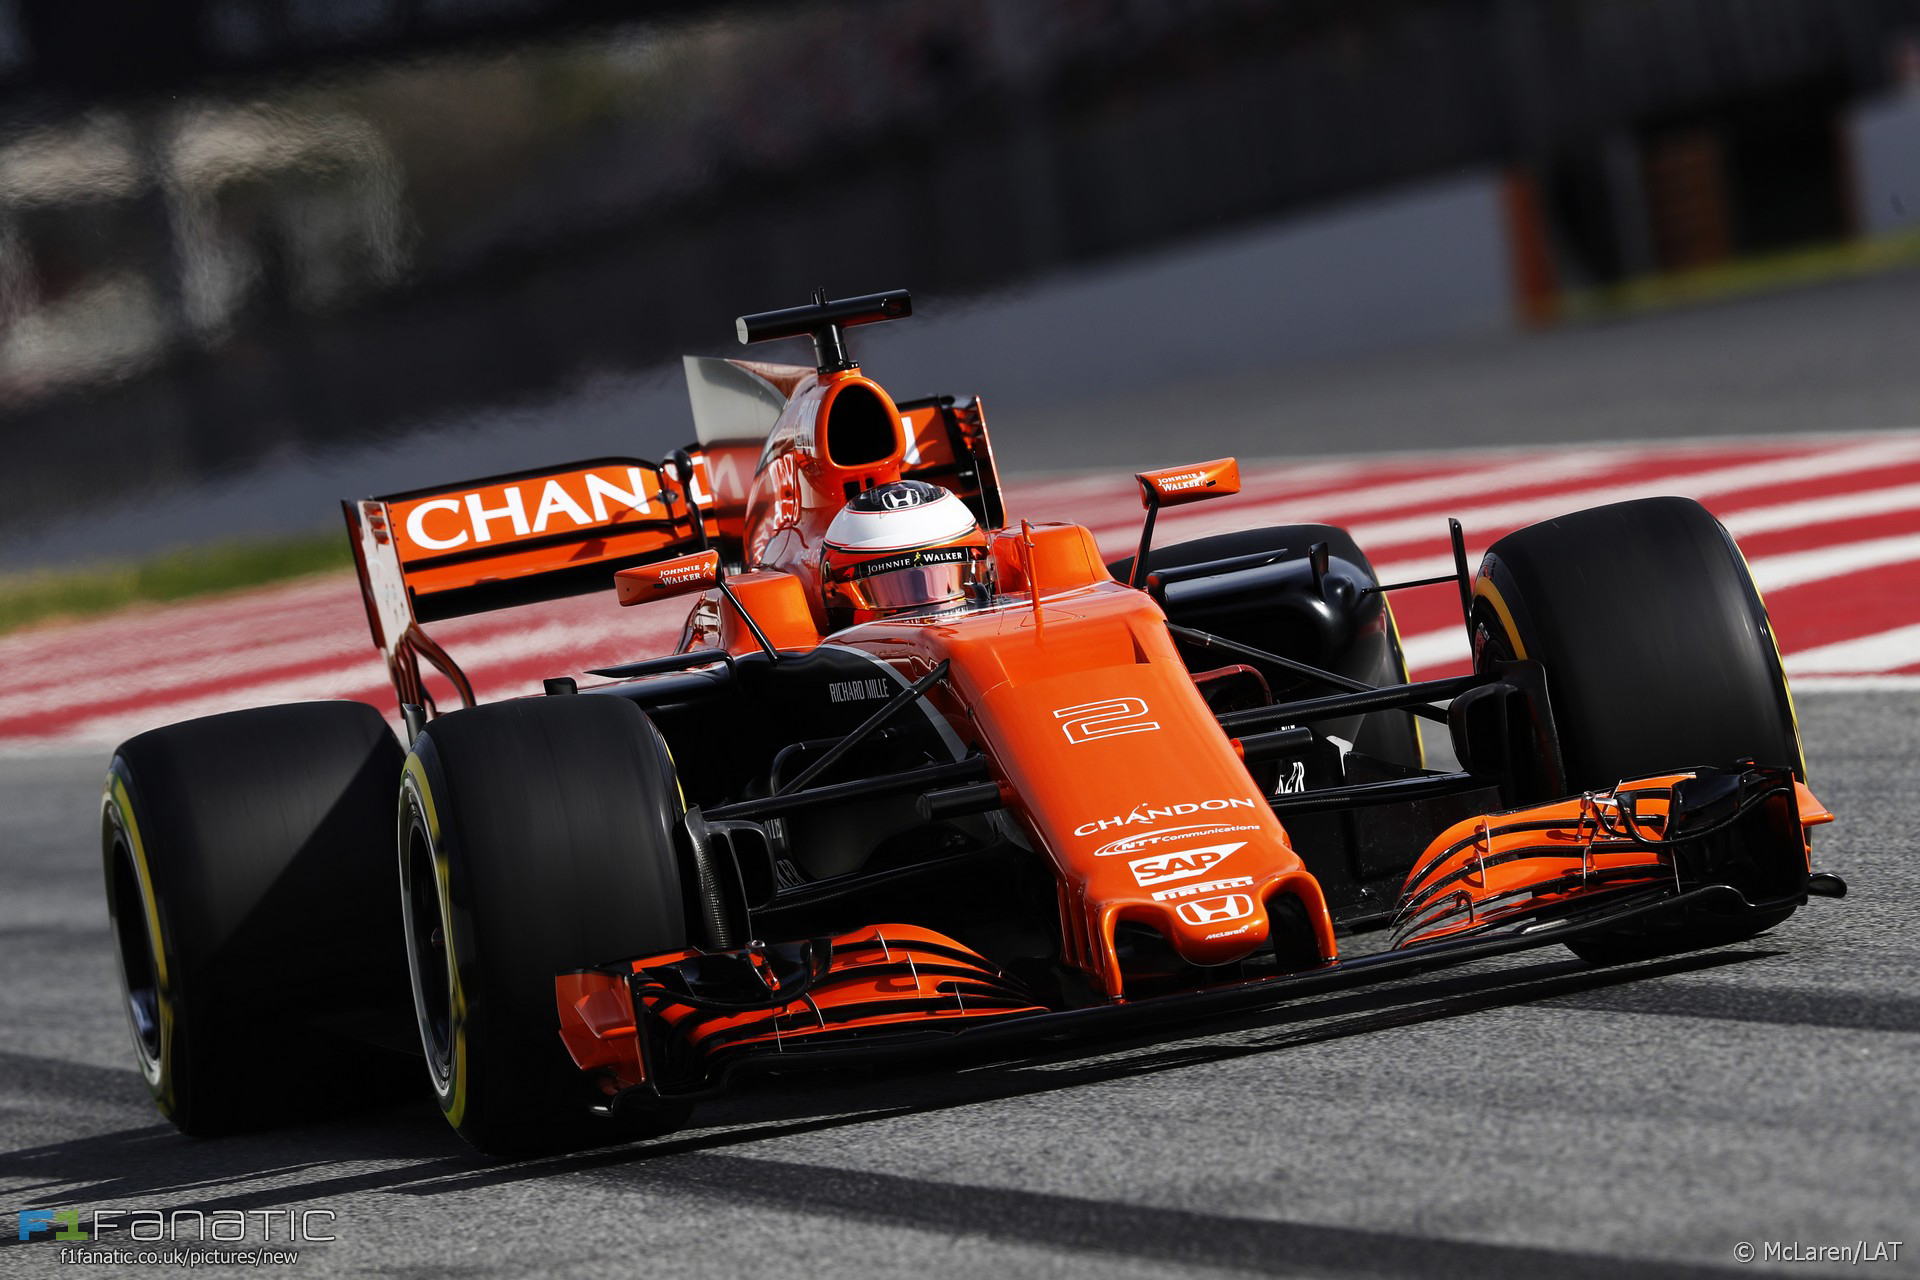F1 Car: (81, 274, 1867, 1171)
